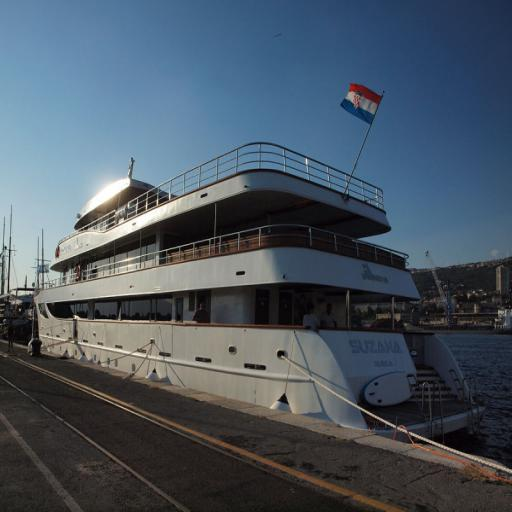cruises: (32, 139, 489, 449)
